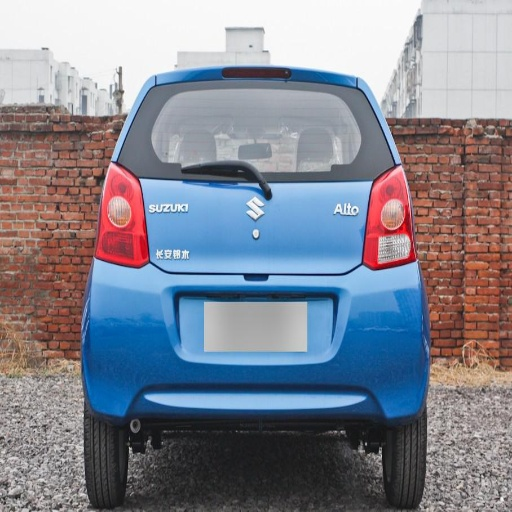back_bumper: (275, 263, 432, 425), (81, 259, 213, 425)
trunk: (136, 165, 391, 393)
